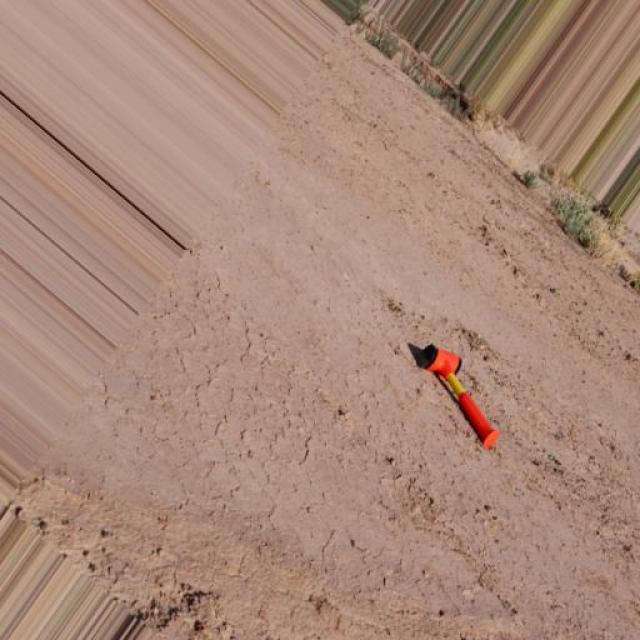mallet: (405, 340, 500, 450)
